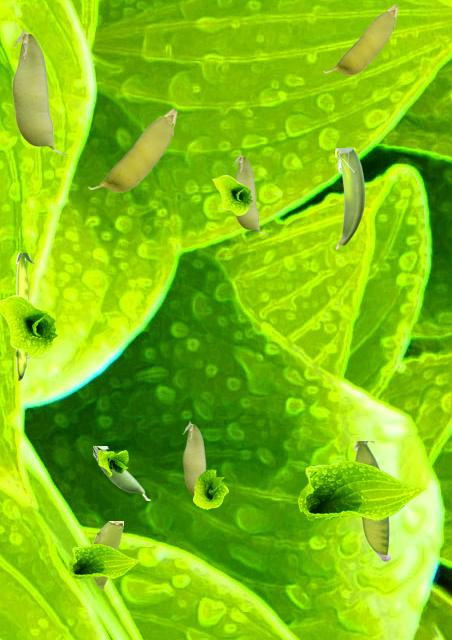pea: (88, 108, 176, 191), (11, 28, 67, 154), (323, 4, 397, 74), (354, 441, 390, 560), (335, 148, 365, 248), (93, 446, 149, 499), (232, 153, 267, 234), (16, 253, 34, 379), (92, 521, 122, 589), (182, 421, 206, 495)
